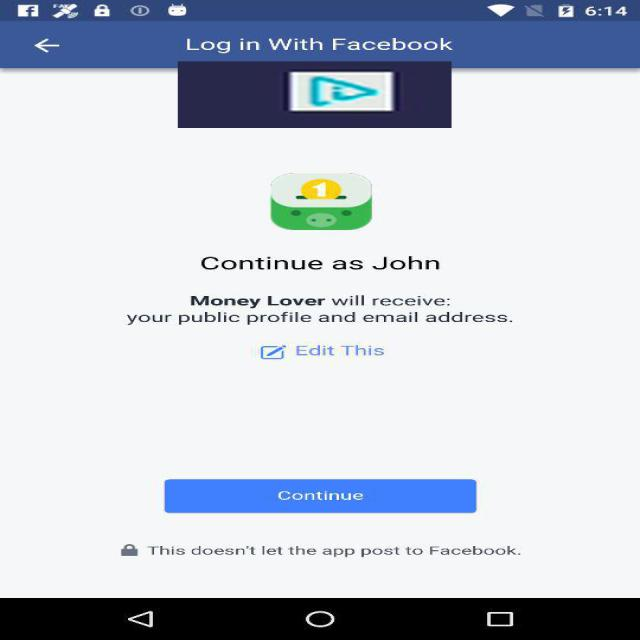sneaking: (178, 61, 452, 128)
